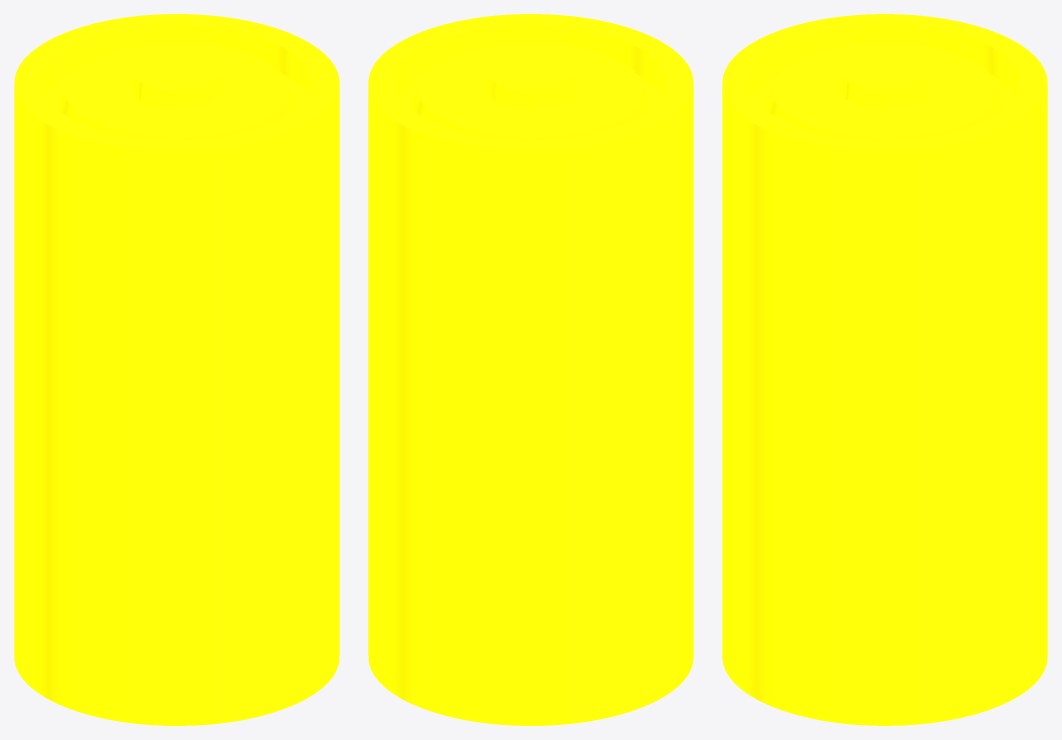
Rendered from BATTERY.fbx.
3 views of the same model, side by side, from view 1: azimuth 30°, elevation 25°; view 2: azimuth 150°, elevation 25°; view 3: azimuth 270°, elevation 25° (orthographic).
Visible parts, largest first — view 1: Cylinder; view 2: Cylinder; view 3: Cylinder.
Part boxes in pixels (x1,y1,x2,y2): Cylinder: (14, 14, 339, 725); Cylinder: (368, 14, 693, 725); Cylinder: (722, 14, 1047, 725).
Bounding box in the file's own units: 4.31 × 8.61 × 4.31.
